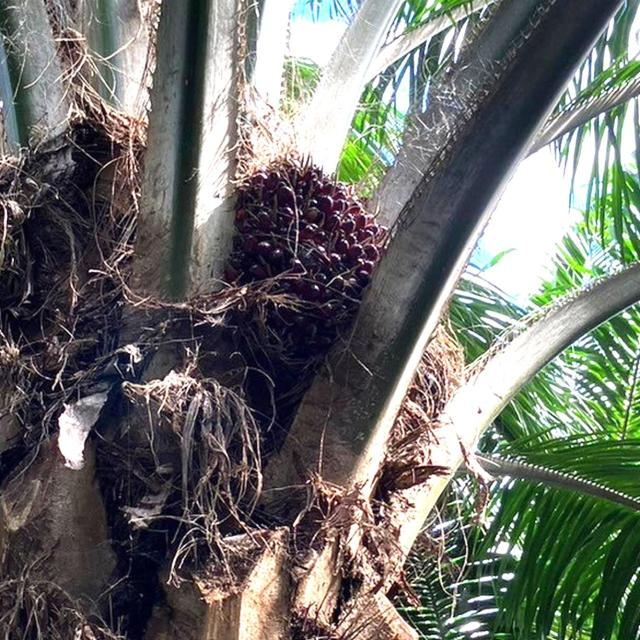ripe: (211, 140, 401, 392)
